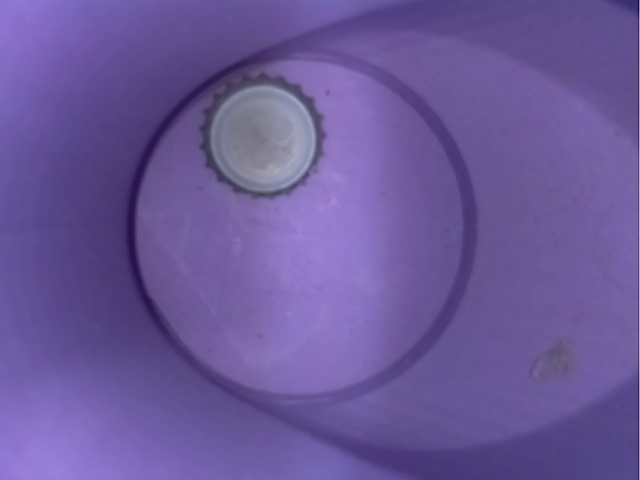capsule: (181, 66, 351, 204)
